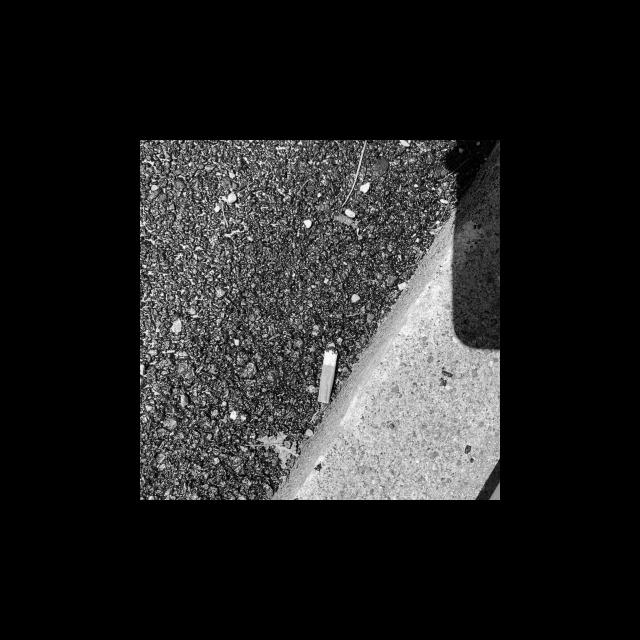cigarette: (317, 349, 338, 403)
